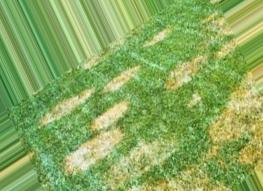patch: (215, 88, 239, 144), (76, 142, 107, 171), (49, 97, 89, 119), (103, 69, 143, 90), (170, 60, 197, 91), (94, 105, 121, 128), (148, 28, 168, 43)
